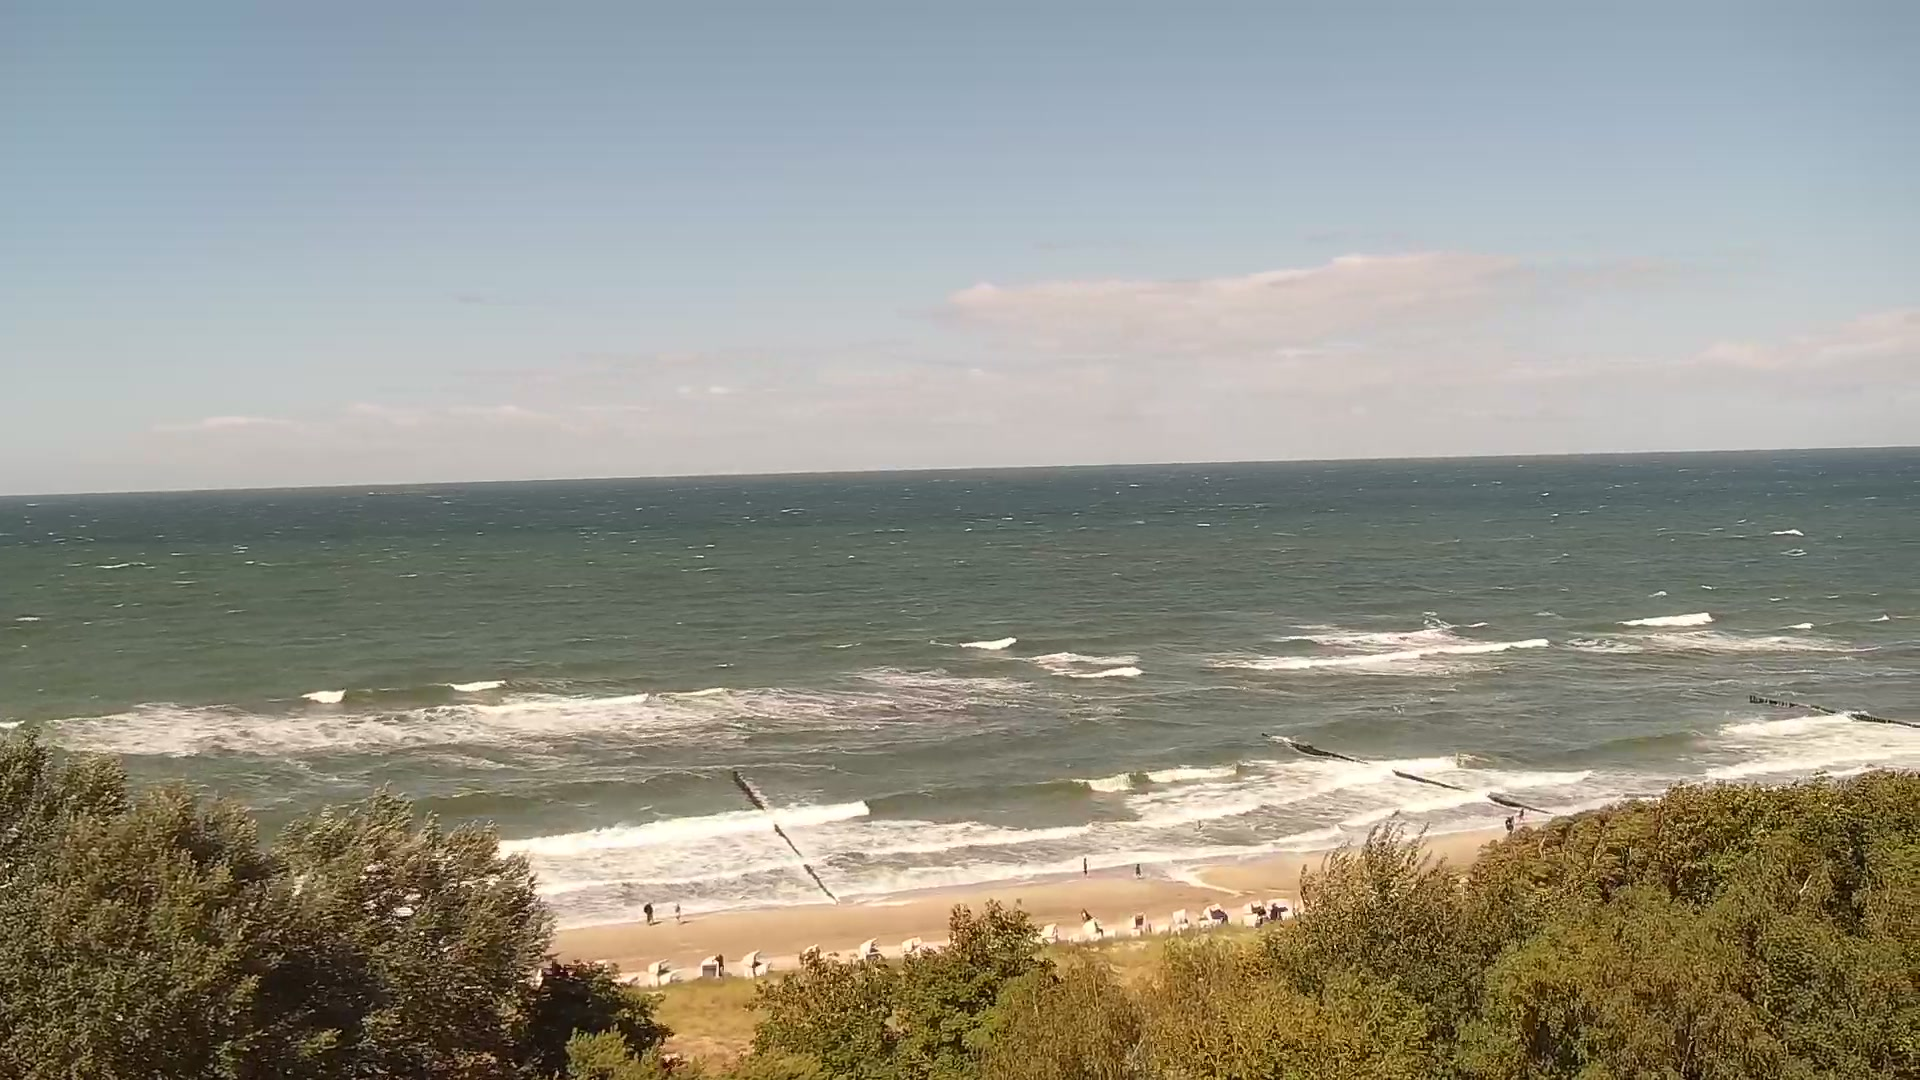human: (644, 901, 655, 924), (674, 902, 682, 923), (1082, 855, 1089, 876), (1516, 806, 1525, 823), (1135, 862, 1142, 879)
